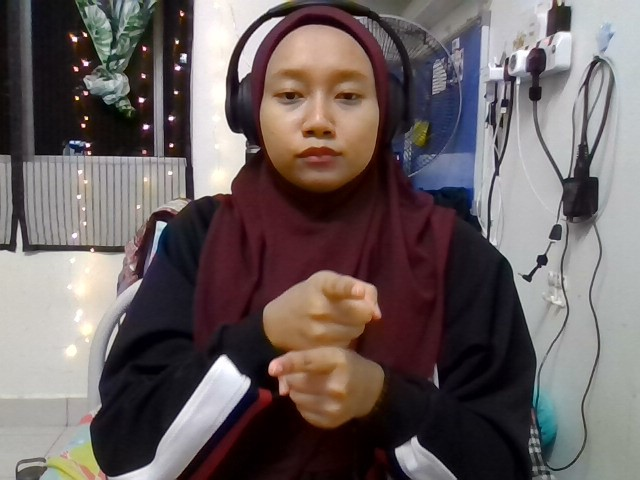Betul: (266, 270, 383, 428)
